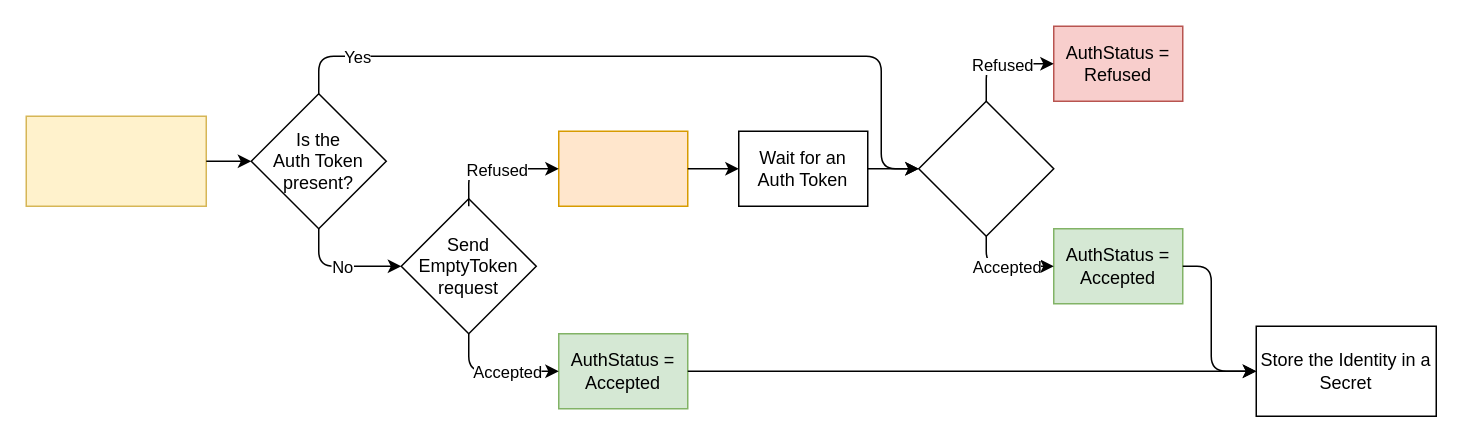
This 1463x443 diagram has some shape labels left out. The centre of each missing label's shape, as x and y in pixels:
AuthStatus = EmptyRefused: the point at 622,168
AuthStatus = Pending: the point at 115,160
Send the request: the point at 985,168
